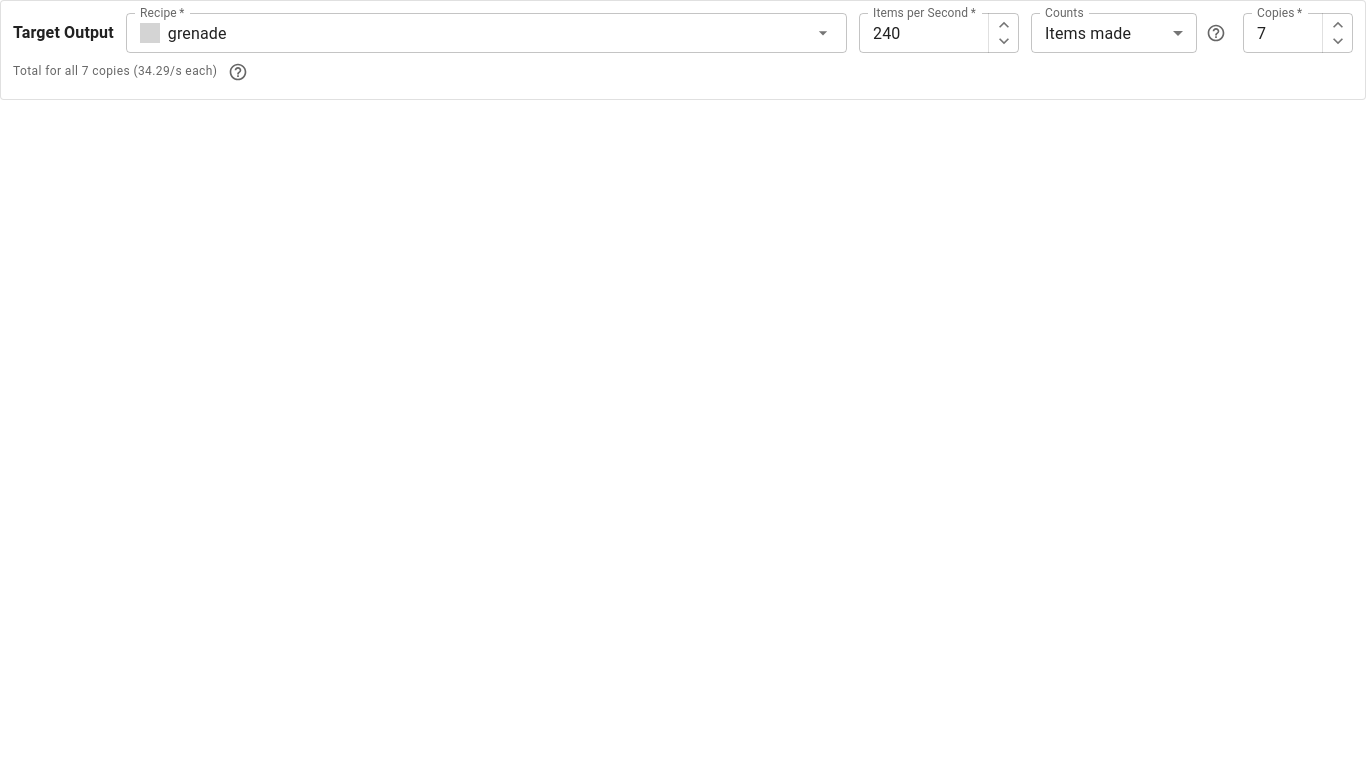
it: what the rate counts › explains the two in the help, one paragraph each, in the words it was given
The width and height of the screenshot is (1366, 768).
Click the button named "About made and destroyed": {"x": 1216, "y": 33} 1201,18 -> 1231,48
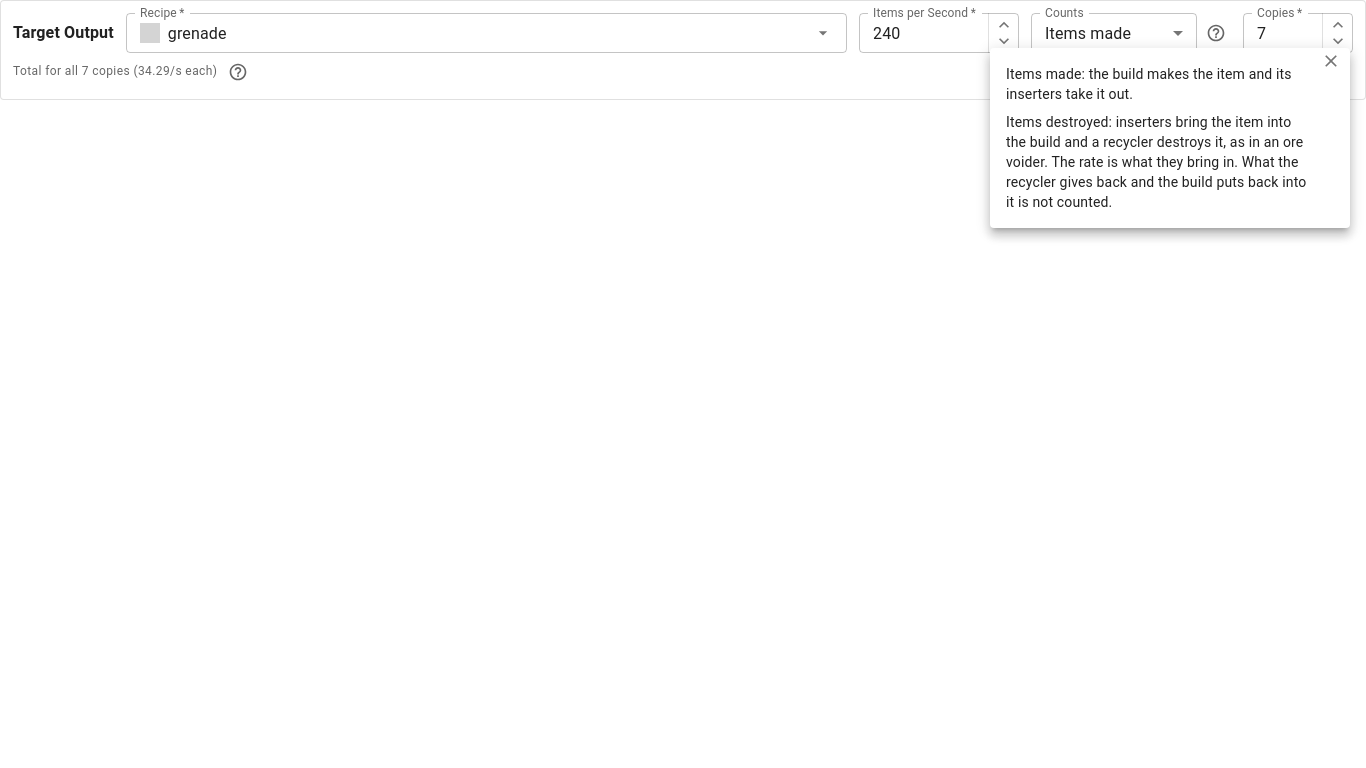
Expected: the text "Items made: the build makes the item and its inserters take it out." is shown, 1006,64 -> 1310,104
